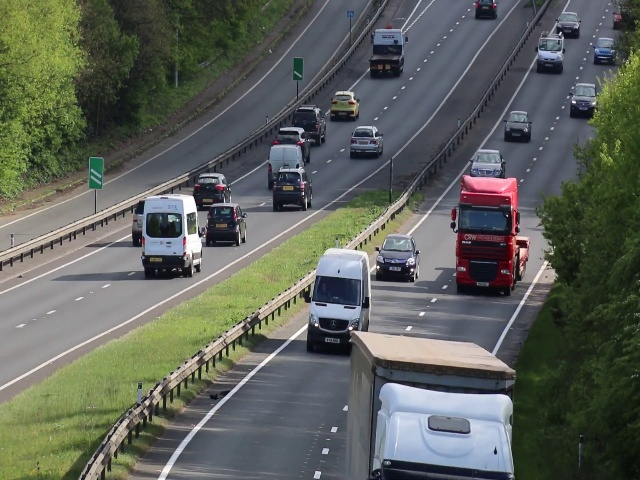car: (304, 247, 367, 357), (455, 185, 515, 298), (140, 194, 205, 277), (204, 201, 249, 248), (374, 234, 419, 279), (368, 28, 404, 79), (271, 171, 313, 212), (290, 106, 327, 144), (535, 31, 565, 72), (195, 172, 228, 208), (349, 123, 382, 156), (267, 146, 304, 175), (273, 123, 308, 152), (473, 147, 504, 177), (328, 90, 362, 117), (572, 81, 595, 119), (505, 110, 530, 140), (592, 38, 614, 63), (557, 13, 583, 34), (473, 1, 498, 19)
